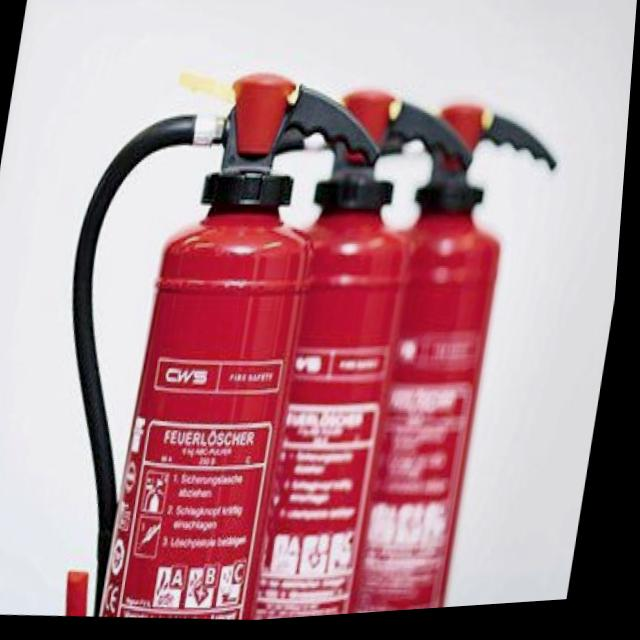FireExtinguisher: (21, 51, 399, 637), (159, 72, 496, 630), (282, 81, 575, 623)
